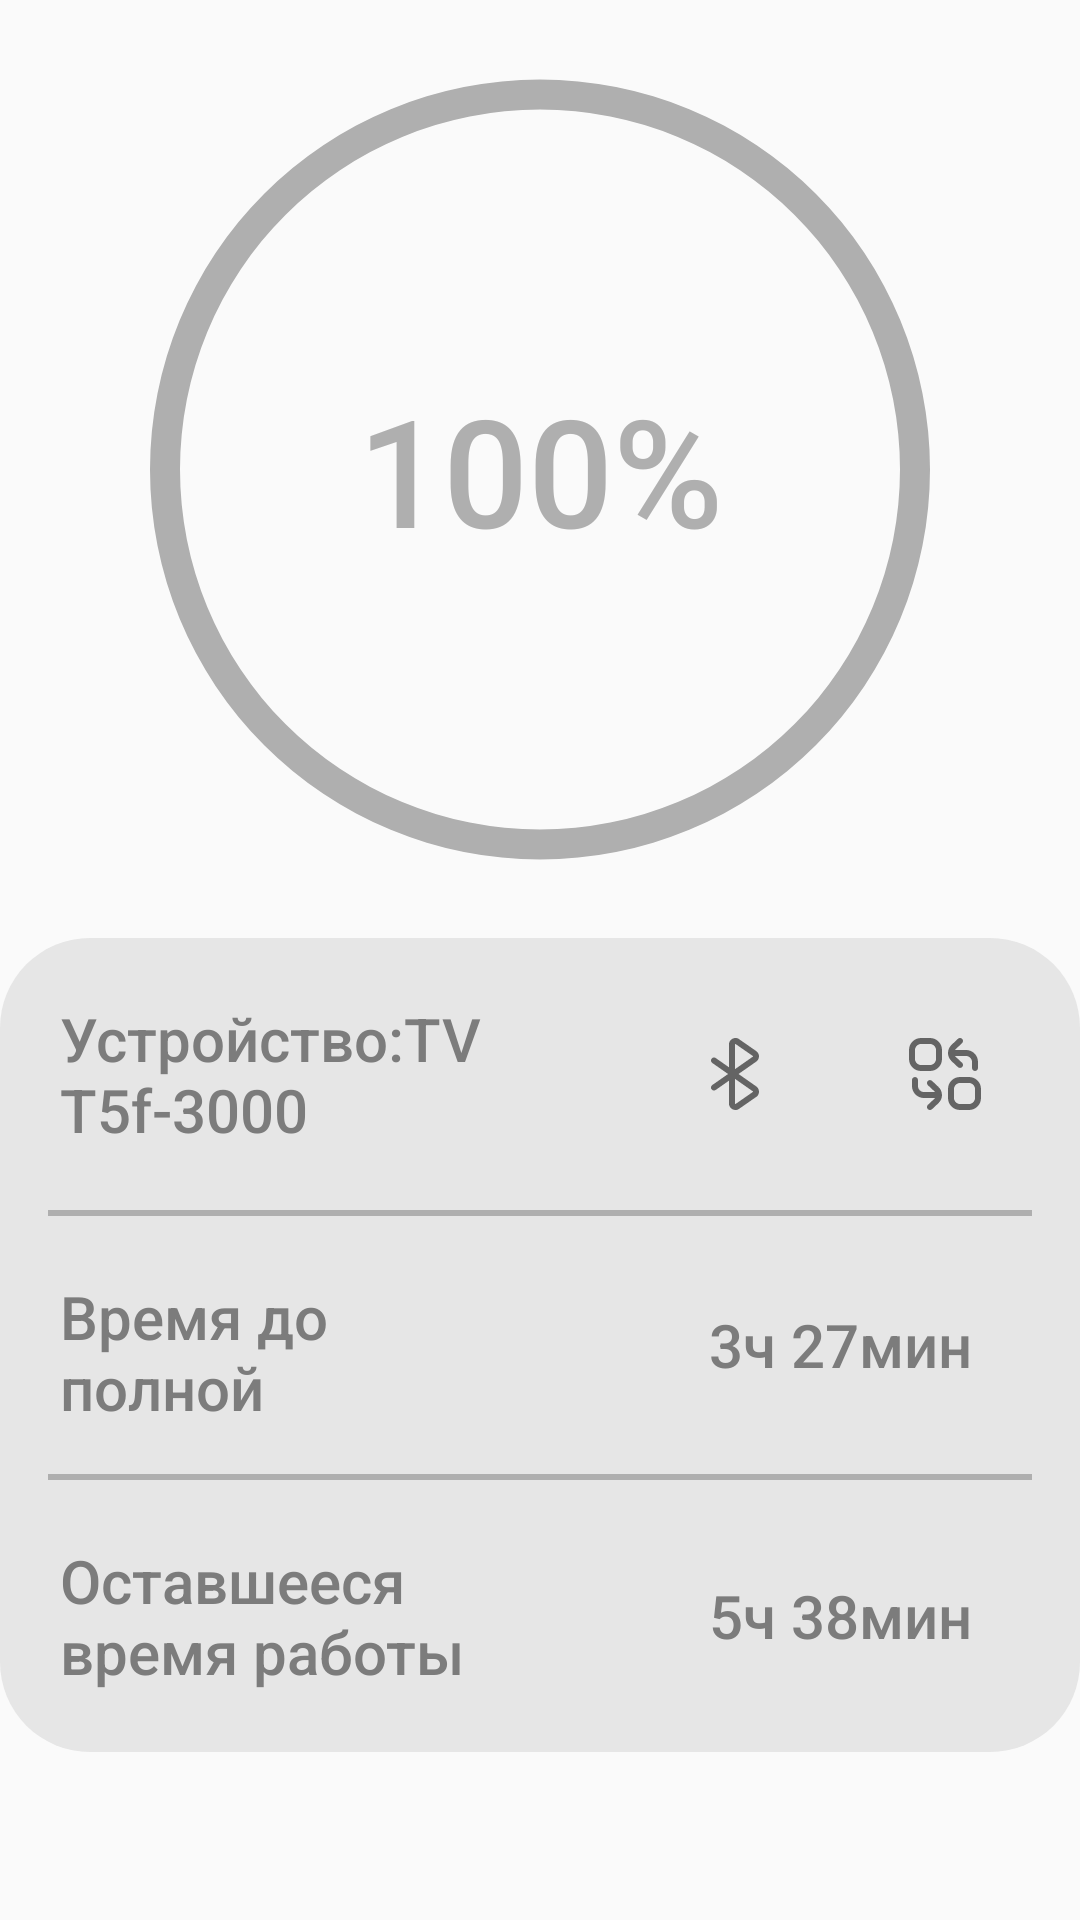

Point at icon controls on the screen. Image size 1080w x 1920h, points as (x=x, y=y).
replace: (x=945, y=1074)
